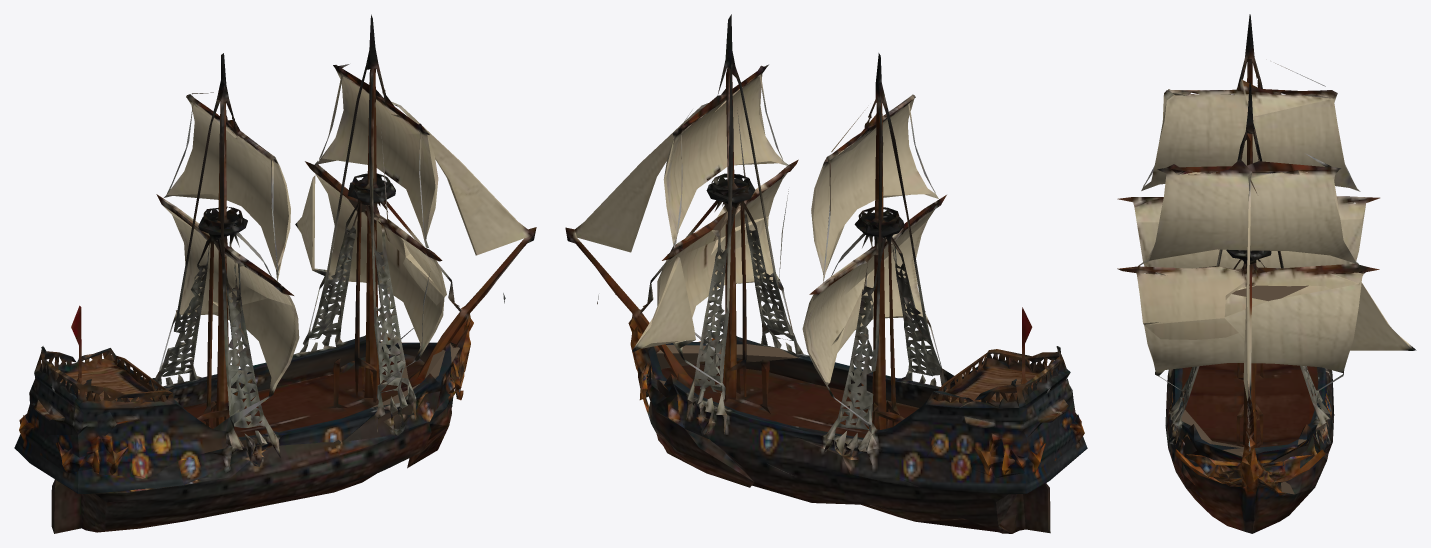
Rendered from carrack.glb.
The picture shows the model from 3 angles, left to right: view 1: azimuth 30°, elevation 25°; view 2: azimuth 150°, elevation 25°; view 3: azimuth 270°, elevation 25°; orthographic projection. The views are drawn at different scales.
Visible parts, largest first — view 1: carrack_export; view 2: carrack_export; view 3: carrack_export.
Part boxes in pixels (x1,y1,x2,y2): carrack_export: (14, 14, 536, 533); carrack_export: (565, 14, 1087, 533); carrack_export: (1117, 14, 1416, 533).
Size of the model in its own units: 40 by 34.2 by 21.89.
1 material, 1 textured.
